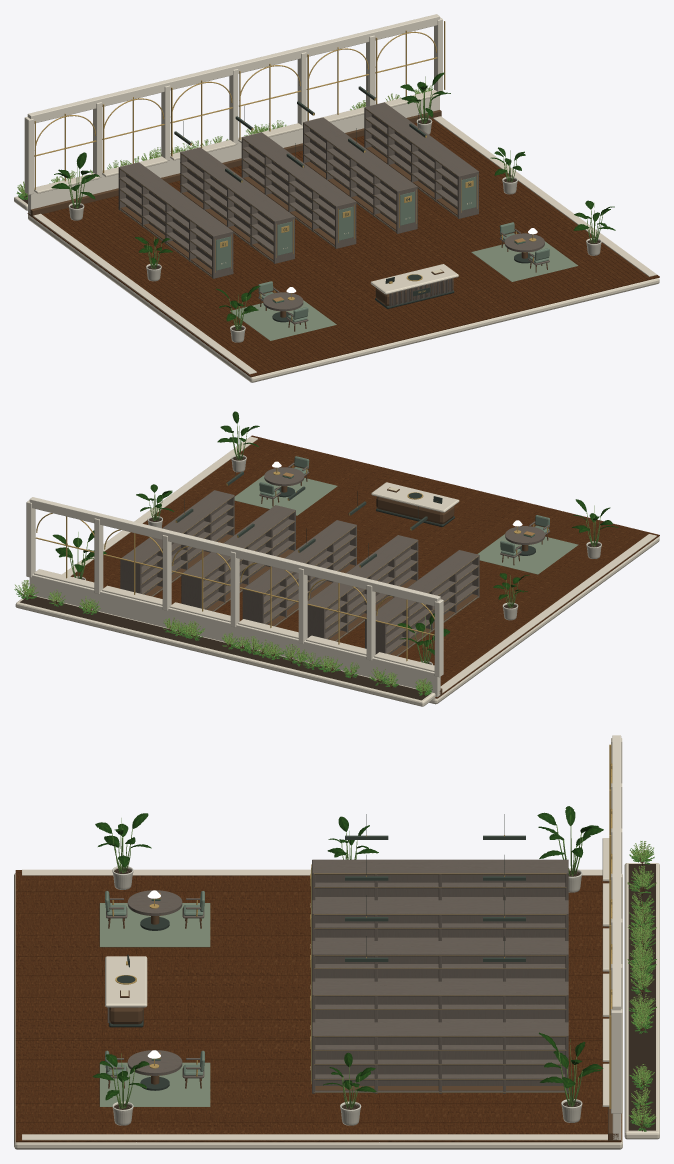
File: hexu-library.glb
3 renders of one model, top to bottom at view 1: azimuth 30°, elevation 25°; view 2: azimuth 150°, elevation 25°; view 3: azimuth 270°, elevation 25°, orthographic. The views are drawn at different scales.
Parts seen in each view (by area): view 1: 01 Architecture__Oak floor | worn board, 01 Architecture__Mineral lime plaster, 01 Architecture__Warm honed limestone, Shelf_1__Oak joinery | smoked oak, Shelf_3__Oak joinery | smoked oak, Shelf_5__Oak joinery | smoked oak, Shelf_2__Oak joinery | smoked oak, Shelf_4__Oak joinery | smoked oak, 07 Reading furniture__Woven moss carpet, 01 Architecture__Brushed champagne brass, 07 Reading furniture__Oak joinery | smoked oak, 01 Architecture__Walnut end grain (+16 smaller); view 2: 01 Architecture__Oak floor | worn board, 01 Architecture__Mineral lime plaster, 01 Architecture__Warm honed limestone, Shelf_1__Oak joinery | smoked oak, Shelf_3__Oak joinery | smoked oak, Shelf_2__Oak joinery | smoked oak, Shelf_4__Oak joinery | smoked oak, Shelf_5__Oak joinery | smoked oak, 08 Exterior shrubs__Botanical | soil, 07 Reading furniture__Woven moss carpet, 08 Exterior shrubs__Botanical | boxwood leaf 3, 01 Architecture__Brushed champagne brass (+14 smaller); view 3: 01 Architecture__Oak floor | worn board, 01 Architecture__Warm honed limestone, Shelf_5__Oak joinery | smoked oak, Shelf_4__Oak joinery | smoked oak, Shelf_1__Oak joinery | smoked oak, Shelf_2__Oak joinery | smoked oak, Shelf_3__Oak joinery | smoked oak, 07 Reading furniture__Woven moss carpet, 08 Exterior shrubs__Botanical | soil, 01 Architecture__Mineral lime plaster, 08 Exterior shrubs__Botanical | boxwood leaf 3, 07 Reading furniture__Oak joinery | smoked oak (+17 smaller).
Boxes of the visible parts, x1=… form: 01 Architecture__Oak floor | worn board: x1=27, y1=119, x2=659, y2=377; 01 Architecture__Mineral lime plaster: x1=24, y1=14, x2=442, y2=214; 01 Architecture__Warm honed limestone: x1=14, y1=90, x2=659, y2=382; Shelf_1__Oak joinery | smoked oak: x1=118, y1=162, x2=233, y2=278; Shelf_3__Oak joinery | smoked oak: x1=241, y1=132, x2=356, y2=248; Shelf_5__Oak joinery | smoked oak: x1=364, y1=102, x2=478, y2=218; Shelf_2__Oak joinery | smoked oak: x1=180, y1=147, x2=294, y2=263; Shelf_4__Oak joinery | smoked oak: x1=303, y1=117, x2=417, y2=233; 07 Reading furniture__Woven moss carpet: x1=230, y1=241, x2=577, y2=340; 01 Architecture__Brushed champagne brass: x1=34, y1=21, x2=445, y2=189; 07 Reading furniture__Oak joinery | smoked oak: x1=258, y1=229, x2=549, y2=324; 01 Architecture__Walnut end grain: x1=28, y1=110, x2=441, y2=216; 01 Architecture__Oak floor | worn board: x1=71, y1=435, x2=659, y2=698; 01 Architecture__Mineral lime plaster: x1=26, y1=497, x2=443, y2=697; 01 Architecture__Warm honed limestone: x1=15, y1=436, x2=659, y2=706; Shelf_1__Oak joinery | smoked oak: x1=365, y1=550, x2=479, y2=656; Shelf_3__Oak joinery | smoked oak: x1=242, y1=520, x2=356, y2=626; Shelf_2__Oak joinery | smoked oak: x1=307, y1=535, x2=418, y2=641; Shelf_4__Oak joinery | smoked oak: x1=181, y1=505, x2=295, y2=611; Shelf_5__Oak joinery | smoked oak: x1=120, y1=490, x2=234, y2=596; 08 Exterior shrubs__Botanical | soil: x1=20, y1=595, x2=431, y2=700; 07 Reading furniture__Woven moss carpet: x1=234, y1=475, x2=578, y2=574; 08 Exterior shrubs__Botanical | boxwood leaf 3: x1=15, y1=580, x2=431, y2=692; 01 Architecture__Brushed champagne brass: x1=35, y1=513, x2=434, y2=661; 01 Architecture__Oak floor | worn board: x1=15, y1=870, x2=621, y2=1142; 01 Architecture__Warm honed limestone: x1=14, y1=838, x2=659, y2=1149; Shelf_5__Oak joinery | smoked oak: x1=312, y1=1022, x2=568, y2=1093; Shelf_4__Oak joinery | smoked oak: x1=312, y1=981, x2=568, y2=1022; Shelf_1__Oak joinery | smoked oak: x1=312, y1=859, x2=568, y2=900; Shelf_2__Oak joinery | smoked oak: x1=312, y1=900, x2=568, y2=940; Shelf_3__Oak joinery | smoked oak: x1=312, y1=941, x2=568, y2=981; 07 Reading furniture__Woven moss carpet: x1=99, y1=903, x2=210, y2=1106; 08 Exterior shrubs__Botanical | soil: x1=628, y1=864, x2=655, y2=1130; 01 Architecture__Mineral lime plaster: x1=611, y1=735, x2=622, y2=1140; 08 Exterior shrubs__Botanical | boxwood leaf 3: x1=628, y1=841, x2=656, y2=1124; 07 Reading furniture__Oak joinery | smoked oak: x1=106, y1=890, x2=204, y2=1078.
Size of the model in its own units: 20.44 by 4.98 by 20.15.
Materials: 29 (5 with a texture image).
